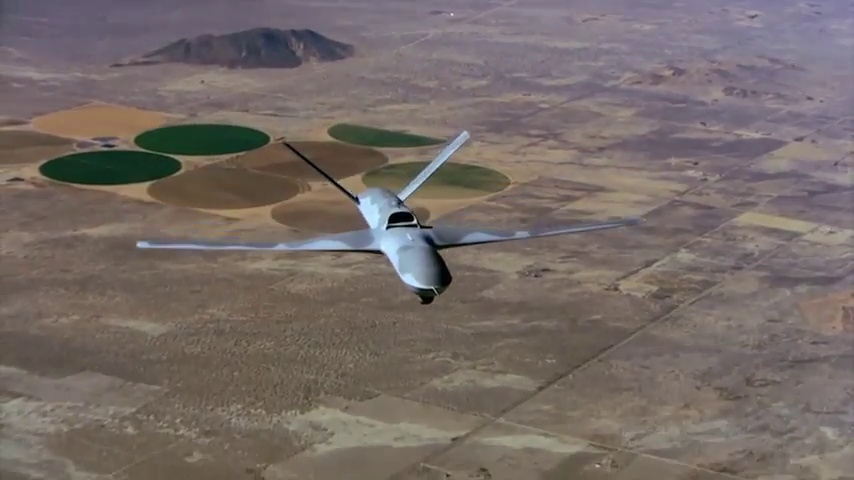military drone: (135, 130, 644, 303)
